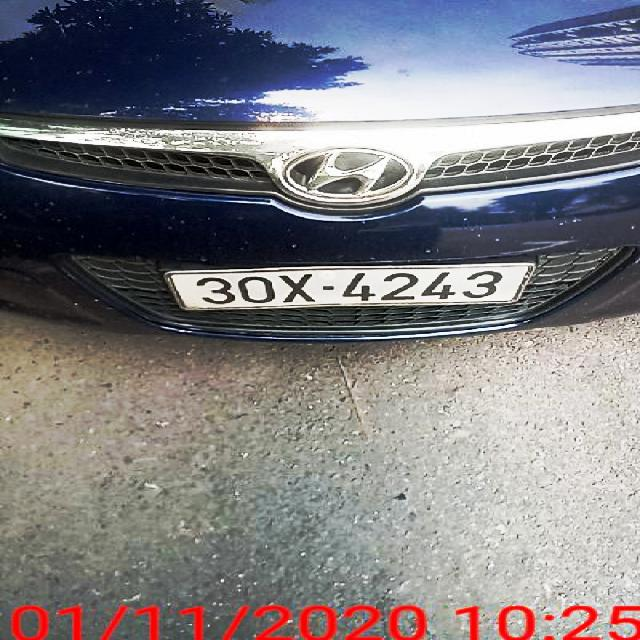license_plate: (169, 266, 535, 314)
